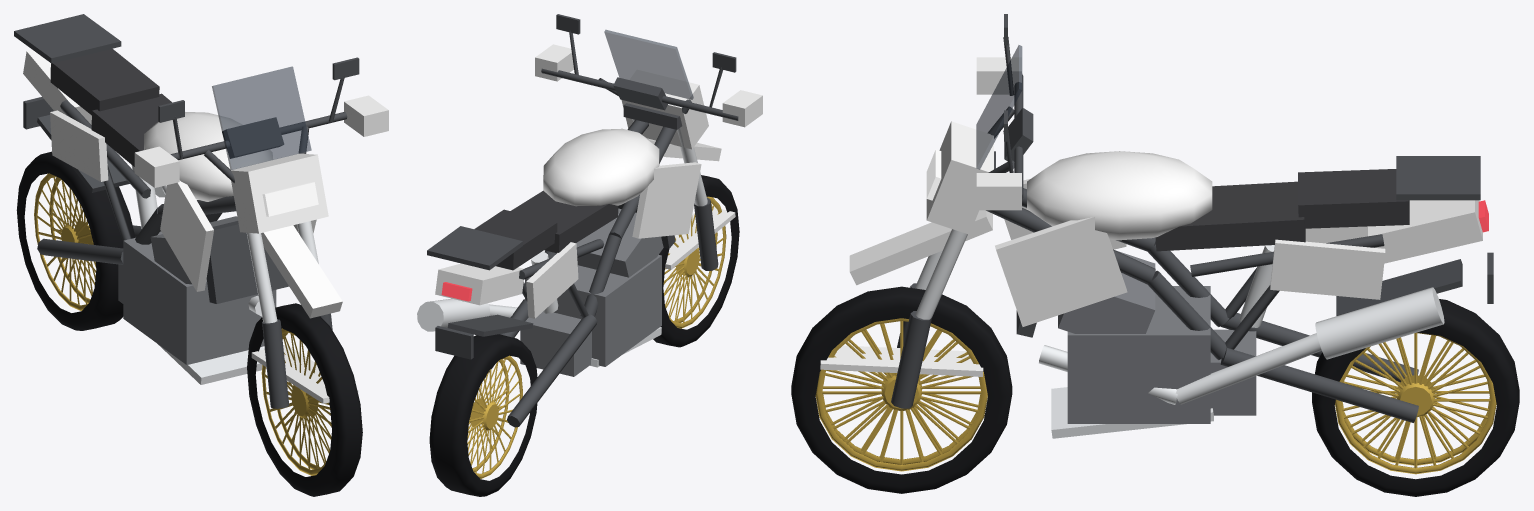
File: bmw_gs_moto.lod.glb
3 renders of one model, left to right at view 1: azimuth 30°, elevation 25°; view 2: azimuth 150°, elevation 25°; view 3: azimuth 270°, elevation 25°, orthographic. The views are drawn at different scales.
Parts seen in each view (by area): view 1: body_trim (×2), body_paint (×2), tire (×2), rim (×4), body_glass, body_chrome (×2), headlights; view 2: body_trim (×2), body_paint (×2), tire (×2), rim (×4), body_glass, body_chrome (×2), taillights; view 3: body_trim (×2), body_paint (×2), tire (×2), rim (×4), body_chrome (×2), body_glass.
Part boxes in pixels (x1,y1,x2,y2): body_trim (×2): (14,14,359,408); body_paint (×2): (23,49,388,403); tire (×2): (16,151,362,496); rim (×4): (34,173,331,475); body_glass: (212,66,311,169); body_chrome (×2): (131,165,318,384); headlights: (262,182,318,216); body_trim (×2): (427,14,738,427); body_paint (×2): (435,44,762,318); tire (×2): (429,175,739,496); rim (×4): (467,196,726,478); body_glass: (604,30,693,99); body_chrome (×2): (417,119,707,367); taillights: (441,282,472,301); body_trim (×2): (891,14,1493,423); body_paint (×2): (820,57,1482,376); tire (×2): (791,286,1519,496); rim (×4): (815,318,1496,474); body_chrome (×2): (915,229,1444,438); body_glass: (976,45,1022,169).
Size of the model in its own units: 0.94 by 1.44 by 2.24.
